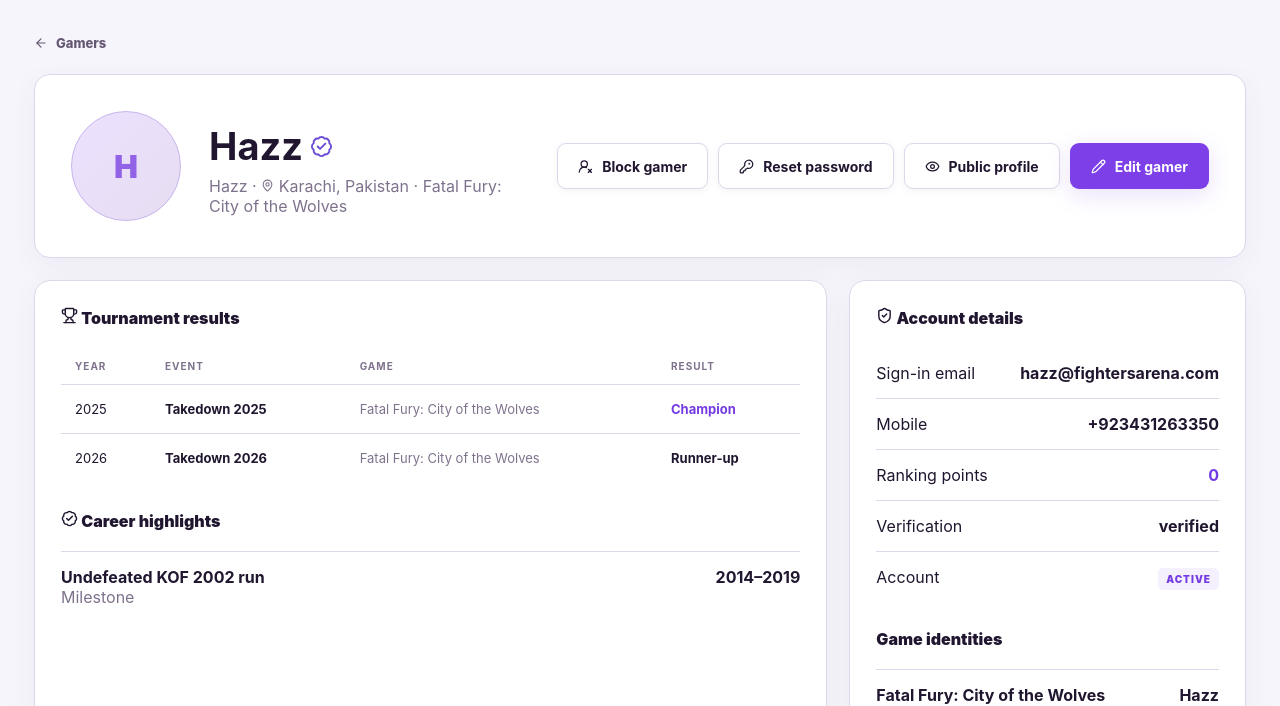
Test: admin gamers › blocks a gamer and revokes active sessions
Click the button "Block gamer" at (633, 166), box left=557, top=143, right=708, bottom=189
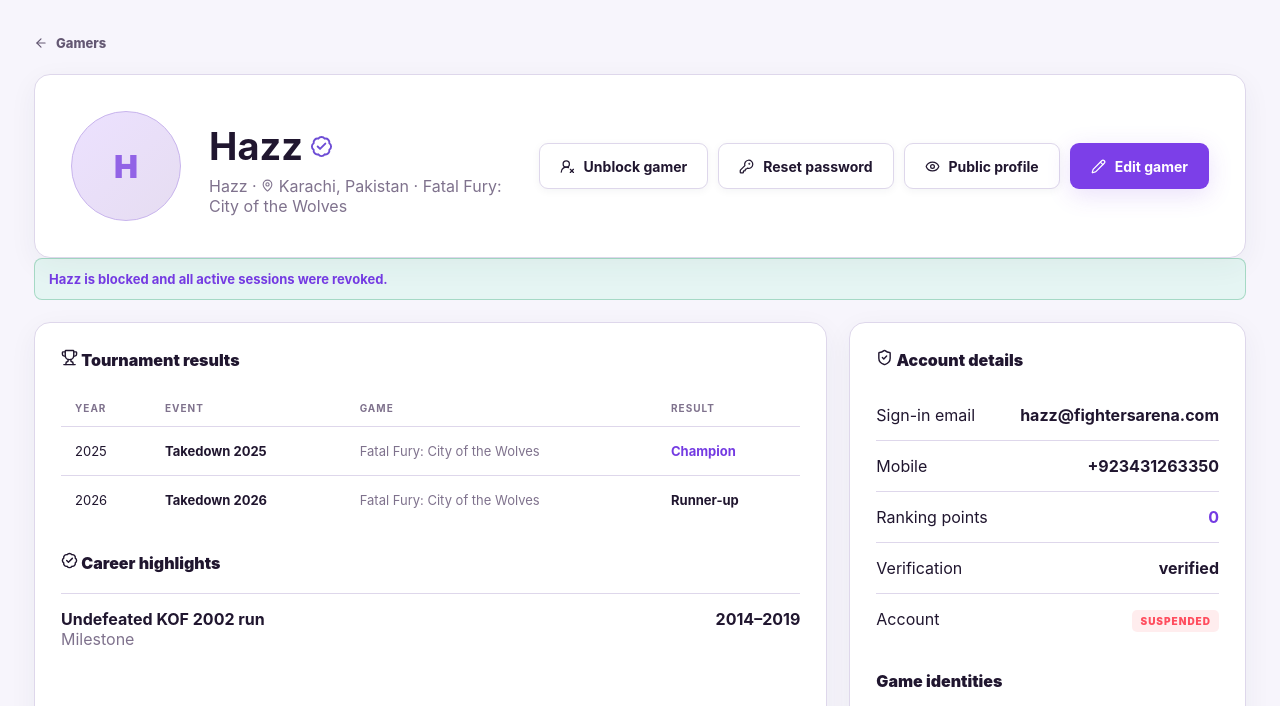
Expected: the button "Unblock gamer" is enabled, left=539, top=143, right=708, bottom=189
Now the text "Hazz is blocked and all active sessions were revoked." is shown, box left=34, top=258, right=1246, bottom=300
Now the text "SUSPENDED" is shown, box left=1132, top=610, right=1219, bottom=632
